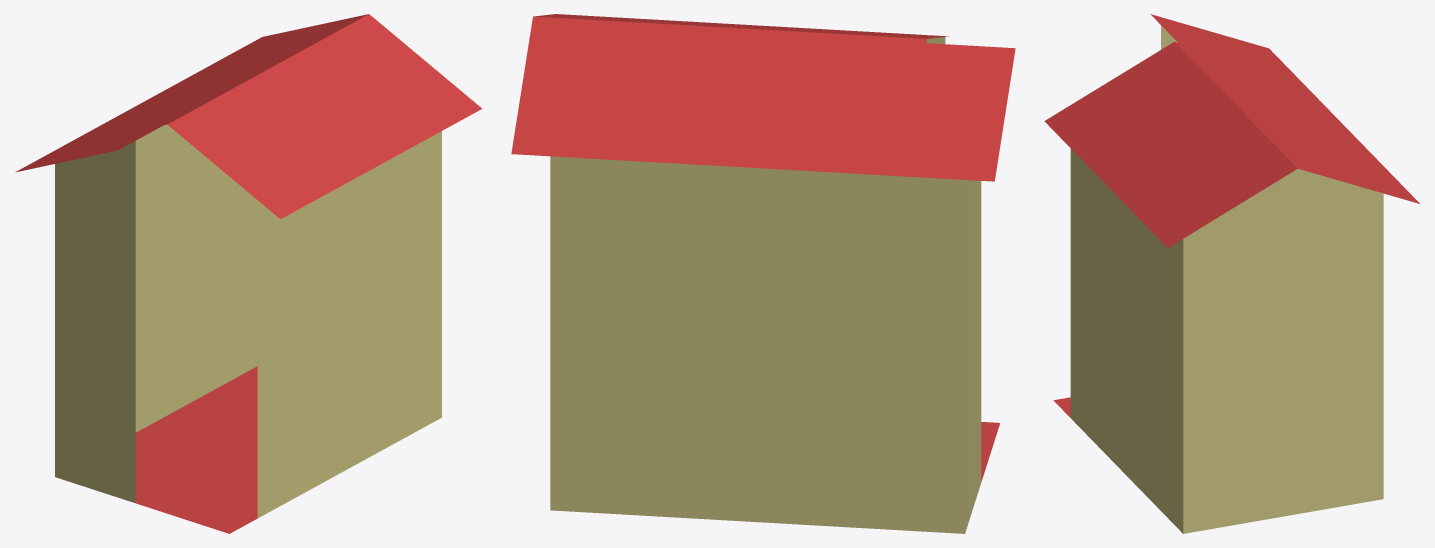
3 renders of one model, left to right at view 1: azimuth 30°, elevation 25°; view 2: azimuth 150°, elevation 25°; view 3: azimuth 270°, elevation 25°, orthographic. The views are drawn at different scales.
Size of the model in its own units: 8.33 by 6.63 by 6.97.
